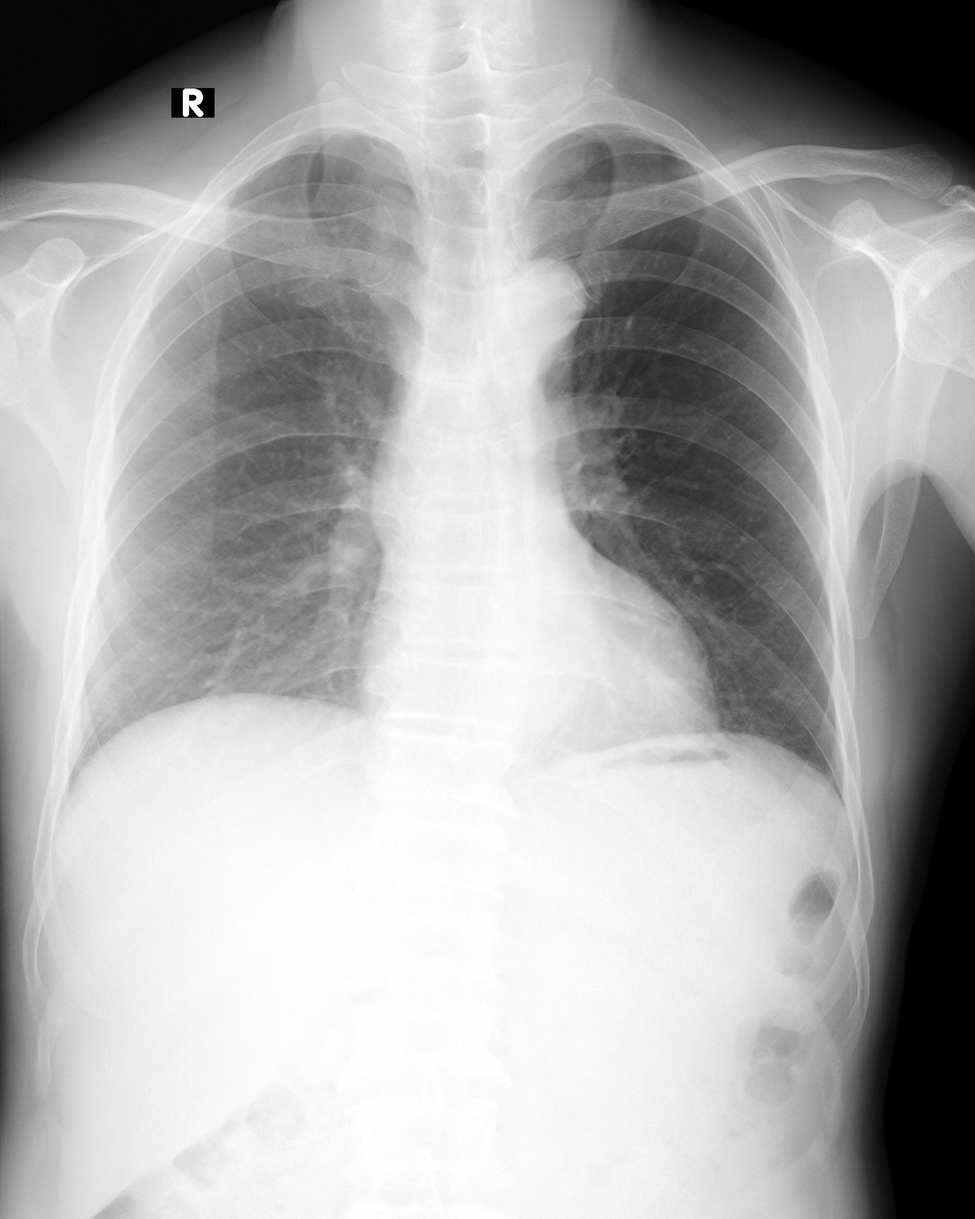Aortic enlargement: (477, 254, 587, 365)
Pleural thickening: (237, 125, 364, 178), (575, 122, 677, 151)
